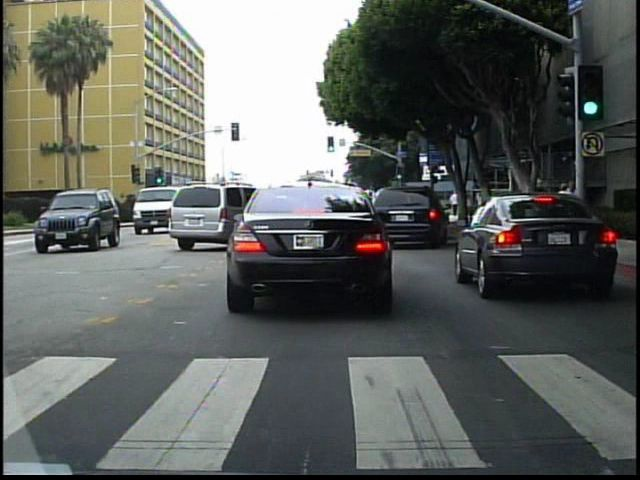person: (567, 175, 586, 236), (447, 186, 460, 221)
